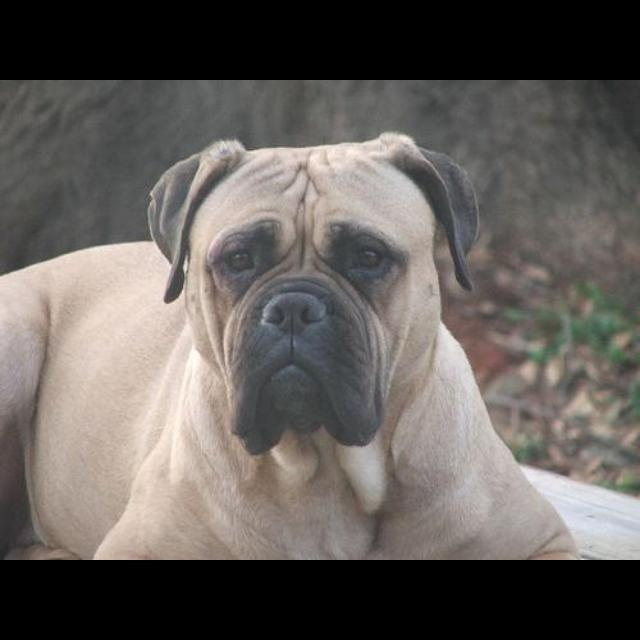bullmastiff: (1, 131, 589, 559)
